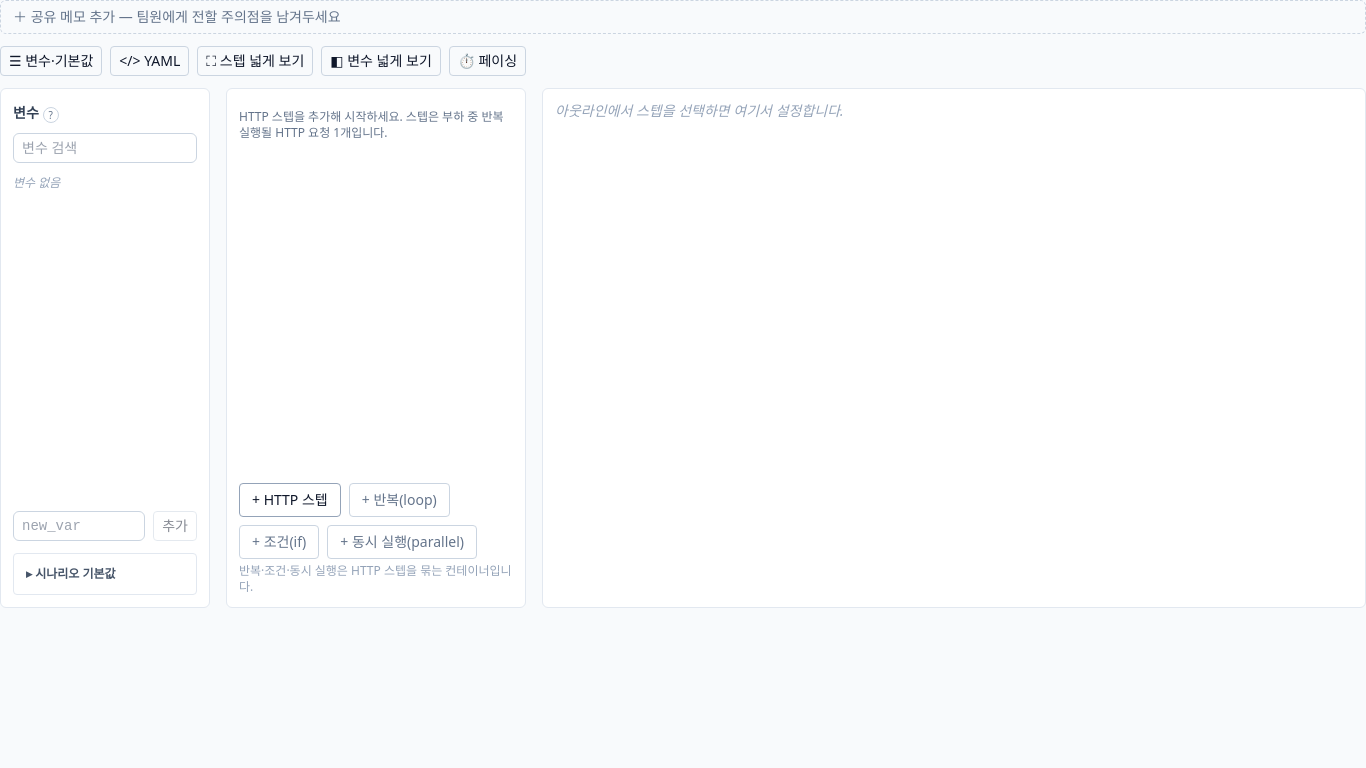
Test: EditorShell › 헤더 툴바의 페이싱 버튼이 현황판을 연다
This screenshot has width=1366, height=768.
Click the button with aria-label "페이싱 현황판 열기": point(487, 61) [449,46,526,76]
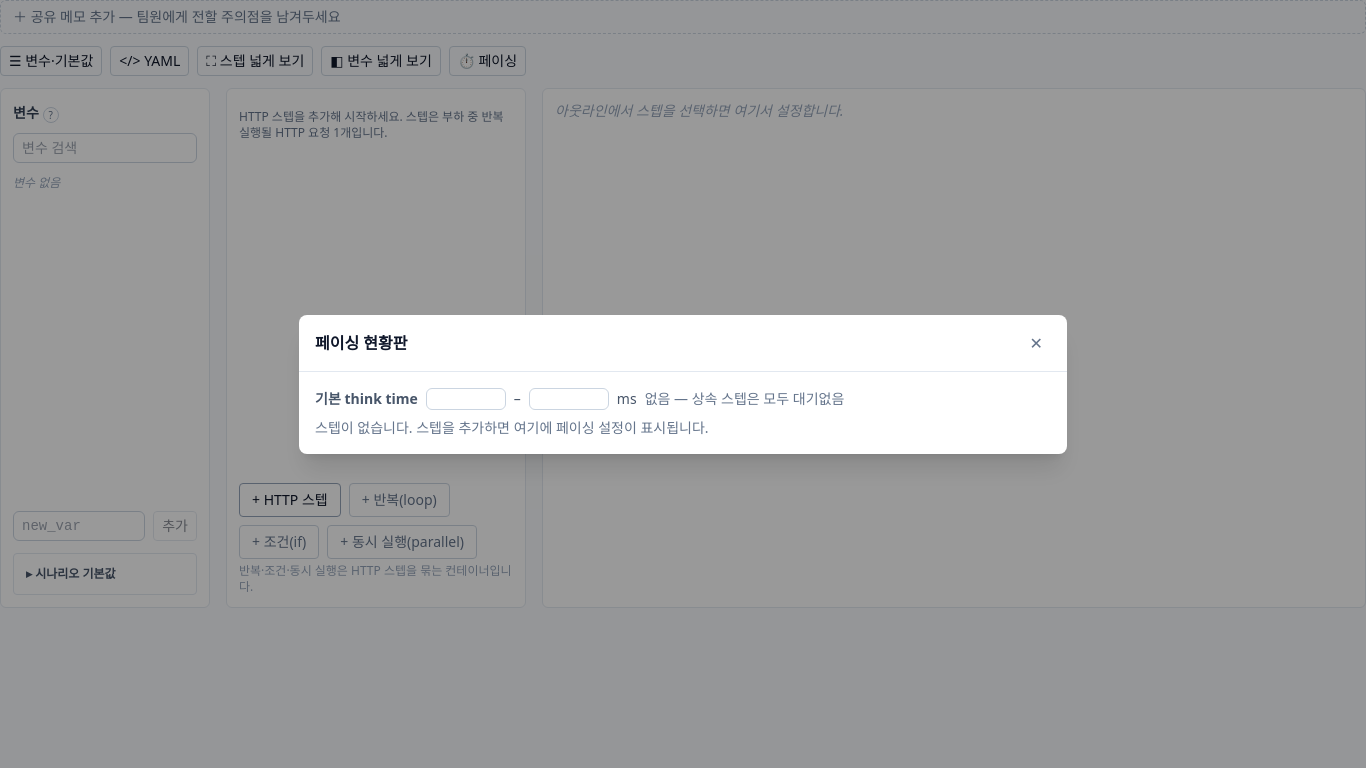
Now the dialog "페이싱 현황판" is shown, box [299,314,1067,454]
